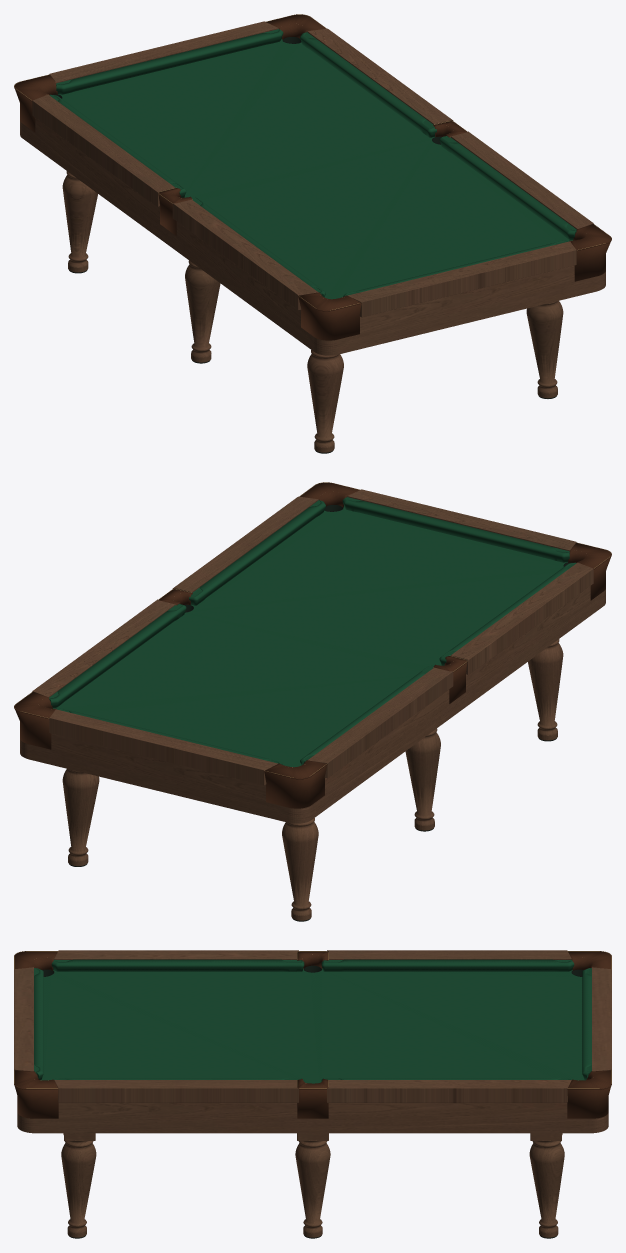
Rendered from table.glb.
3 views of the same model, one above another, from view 1: azimuth 30°, elevation 25°; view 2: azimuth 150°, elevation 25°; view 3: azimuth 270°, elevation 25° (orthographic). The views are drawn at different scales.
Parts seen in each view (by area): view 1: Static Forest baize, 01 Walnut lacquer V2, Static Walnut lacquer V2, Static Leg walnut satin V3, 06 Forest baize, Static Tobacco leather, 09 Tobacco leather; view 2: Static Forest baize, 01 Walnut lacquer V2, Static Walnut lacquer V2, Static Leg walnut satin V3, 06 Forest baize, Static Tobacco leather, 09 Tobacco leather; view 3: Static Forest baize, 01 Walnut lacquer V2, Static Walnut lacquer V2, 06 Forest baize, Static Leg walnut satin V3, Static Tobacco leather, 09 Tobacco leather.
Boxes of the visible parts, x1,y1,x2,y2 form: Static Forest baize: [58, 39, 572, 299]; 01 Walnut lacquer V2: [32, 21, 593, 317]; Static Walnut lacquer V2: [20, 118, 605, 355]; Static Leg walnut satin V3: [62, 171, 563, 452]; 06 Forest baize: [49, 29, 576, 297]; Static Tobacco leather: [14, 14, 611, 340]; 09 Tobacco leather: [14, 14, 611, 311]; Static Forest baize: [53, 507, 567, 767]; 01 Walnut lacquer V2: [32, 489, 593, 785]; Static Walnut lacquer V2: [20, 586, 605, 823]; Static Leg walnut satin V3: [62, 639, 563, 920]; 06 Forest baize: [49, 497, 576, 765]; Static Tobacco leather: [14, 482, 611, 808]; 09 Tobacco leather: [14, 482, 611, 779]; Static Forest baize: [41, 968, 584, 1083]; 01 Walnut lacquer V2: [14, 950, 611, 1102]; Static Walnut lacquer V2: [17, 1103, 608, 1133]; 06 Forest baize: [34, 959, 591, 1081]; Static Leg walnut satin V3: [61, 1133, 564, 1237]; Static Tobacco leather: [14, 951, 611, 1118]; 09 Tobacco leather: [14, 951, 611, 1089].
Bounding box in the file's own units: 1.54 × 0.8501 × 2.82.
9 materials, 4 textured.
